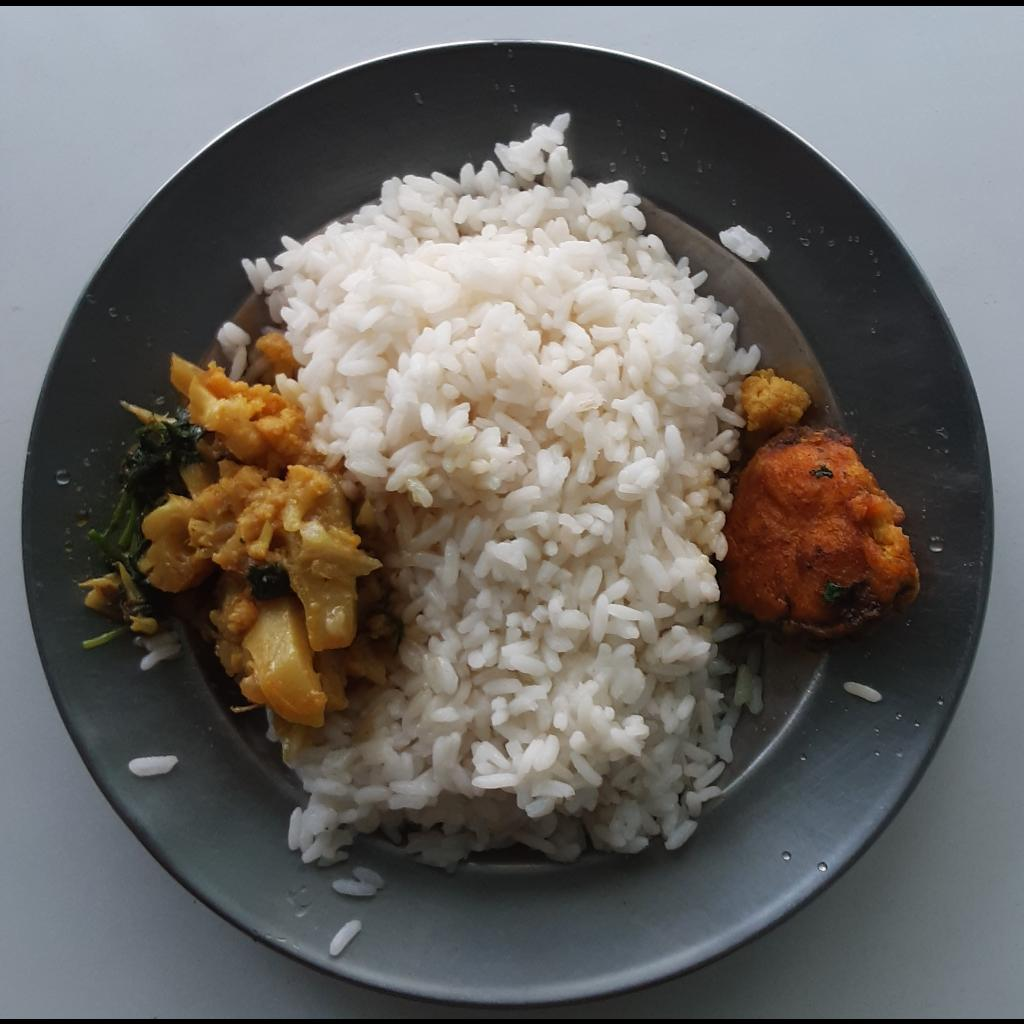cauliflower: (78, 346, 366, 720), (748, 360, 817, 437)
fish: (718, 428, 923, 649)
rice: (241, 112, 770, 873)
